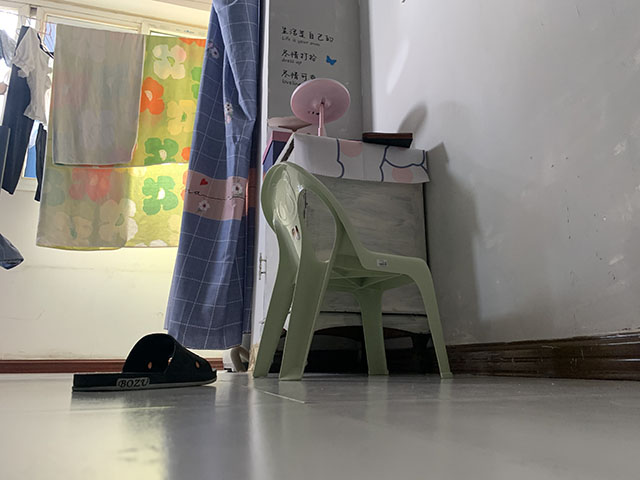cabinet: (258, 130, 429, 377)
curtain: (162, 1, 264, 352)
slippers: (71, 332, 218, 394)
stool: (252, 161, 456, 380)
